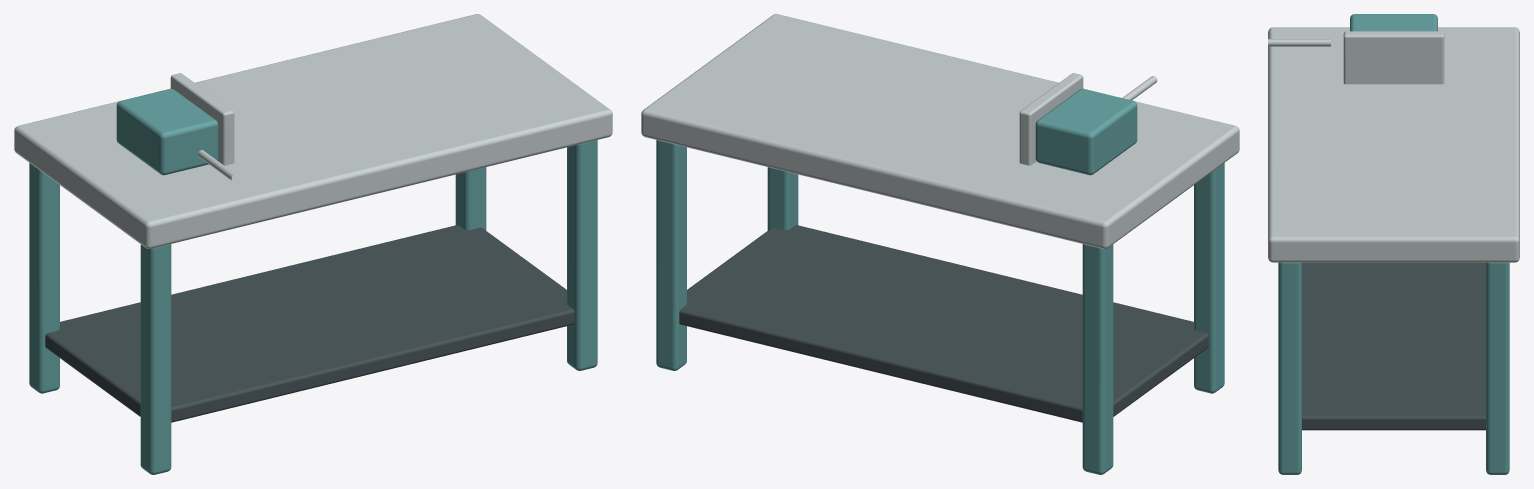
File: hydroelectric-dam-infiltration-workshop-bench-5eeee2b7__29356.glb
The picture shows the model from 3 angles, left to right: view 1: azimuth 30°, elevation 25°; view 2: azimuth 150°, elevation 25°; view 3: azimuth 270°, elevation 25°; orthographic projection. The views are drawn at different scales.
Visible parts, largest first — view 1: workshop-bench; view 2: workshop-bench; view 3: workshop-bench.
Boxes of the visible parts, <box> form: workshop-bench: <box>14,14,612,474</box>; workshop-bench: <box>641,14,1239,474</box>; workshop-bench: <box>1268,14,1519,474</box>.
Bounding box in the file's own units: 1.6 × 1.02 × 0.8001.
